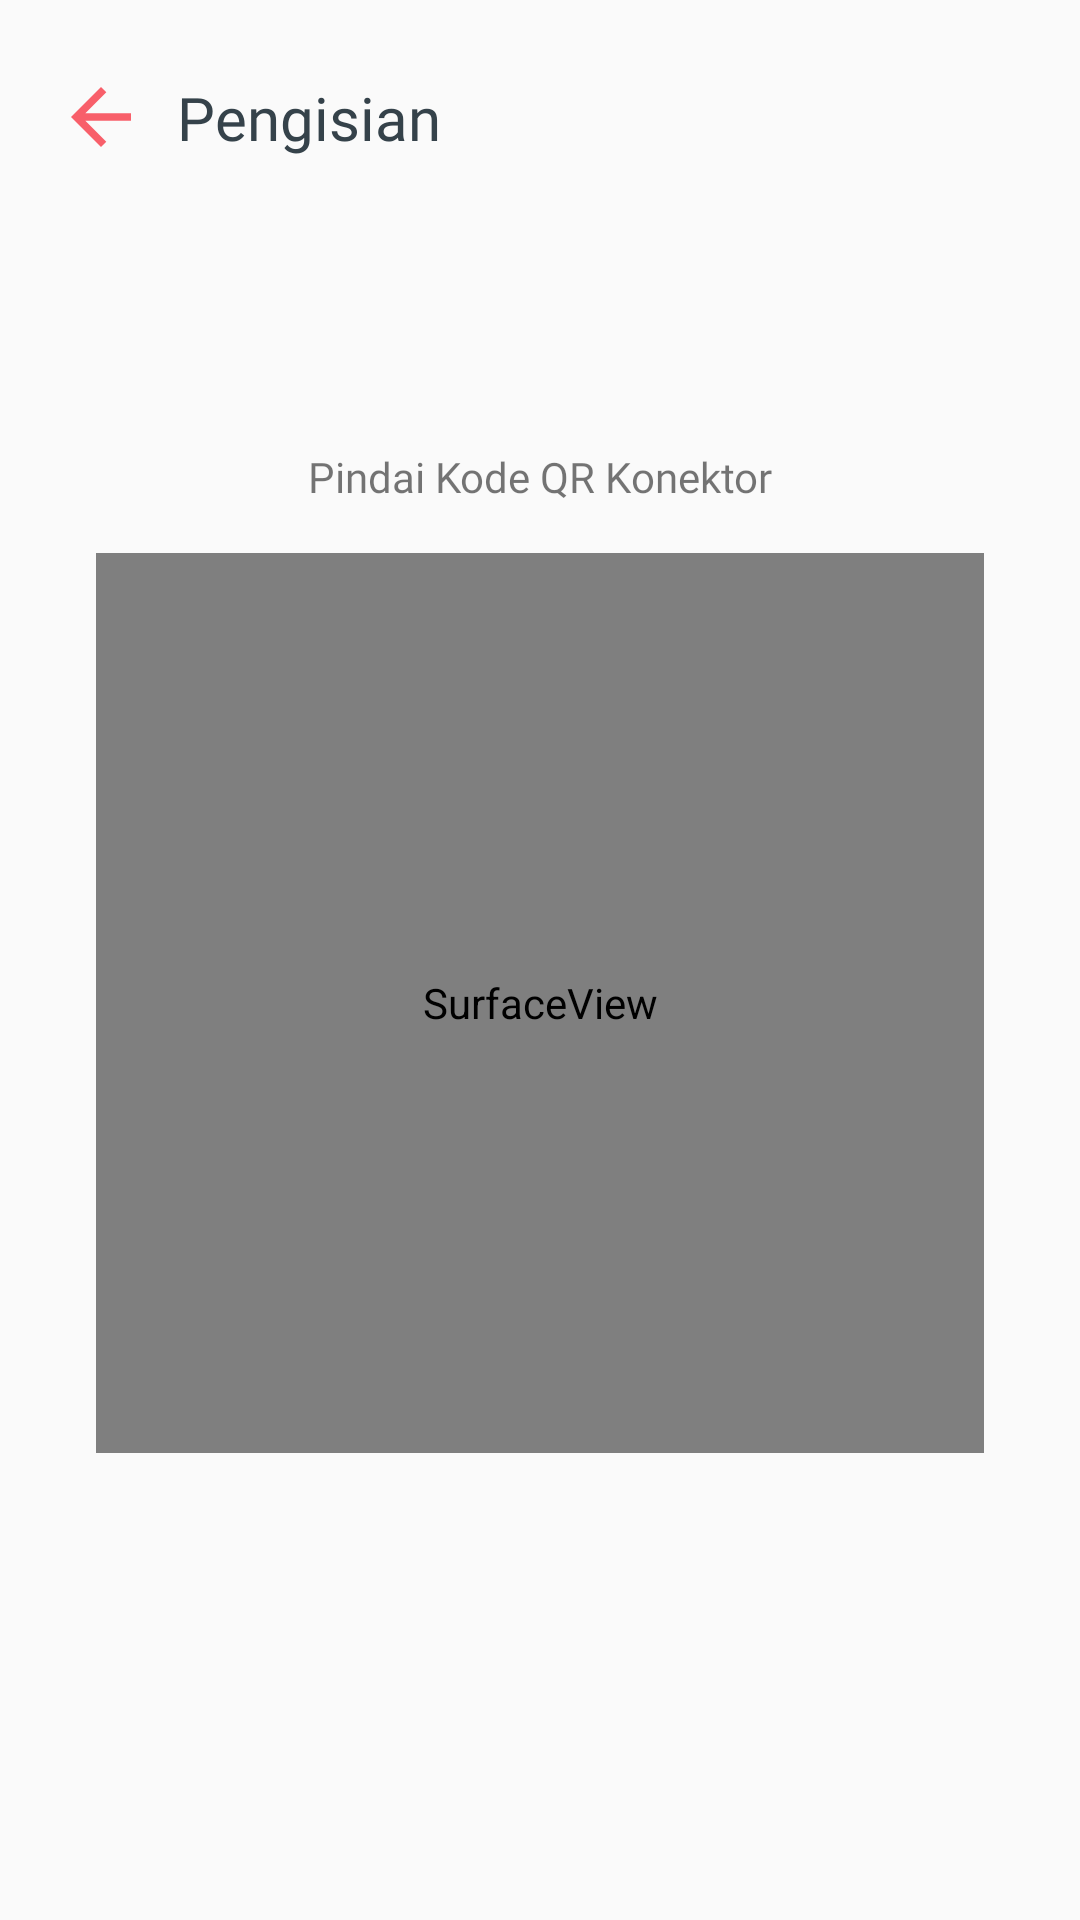

Icon bounding boxes for this 1080x1920 phone screenshot, format (x1, y1, x2, y2):
arrow back: (71, 87, 131, 147)
